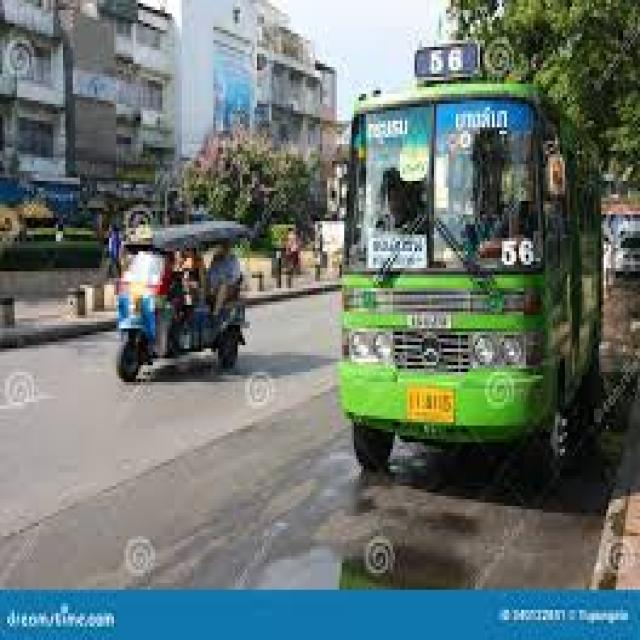bus: (333, 64, 629, 495)
tuktuk: (96, 206, 275, 394)
